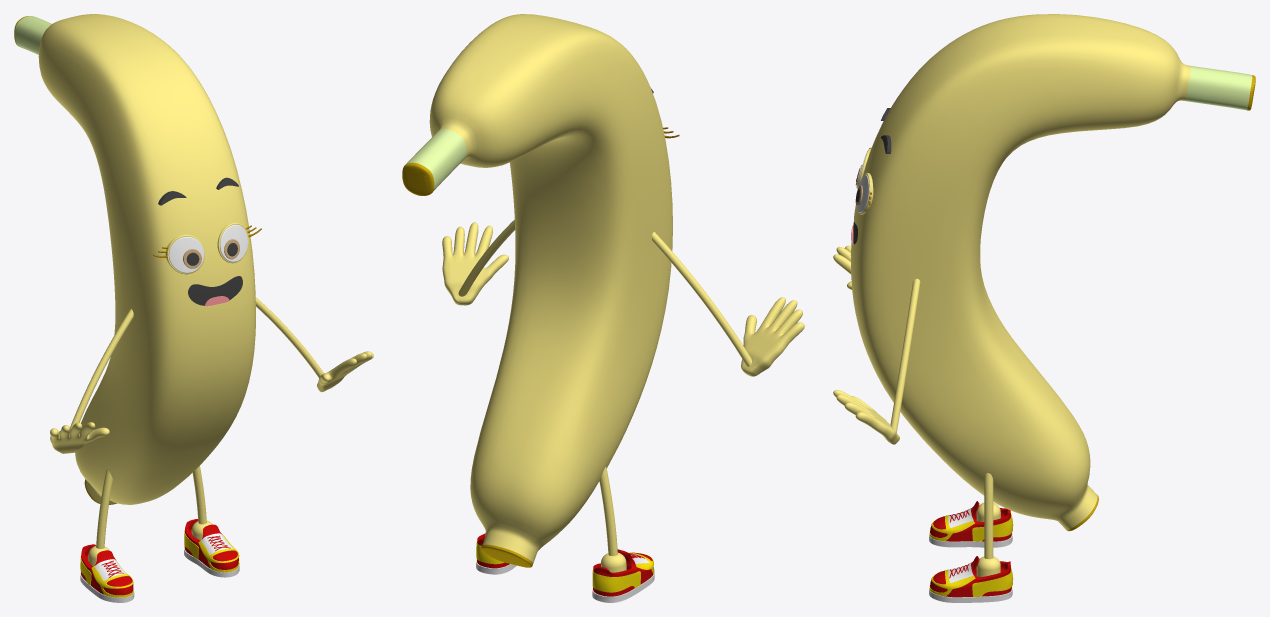
3 renders of one model, left to right at view 1: azimuth 30°, elevation 25°; view 2: azimuth 150°, elevation 25°; view 3: azimuth 270°, elevation 25°, orthographic. The views are drawn at different scales.
Parts seen in each view (by area): view 1: 003_Dole_Banana; view 2: 003_Dole_Banana; view 3: 003_Dole_Banana.
Part boxes in pixels (x1,y1,x2,y2): 003_Dole_Banana: (14,14,373,602); 003_Dole_Banana: (402,14,804,602); 003_Dole_Banana: (833,14,1255,602).
Size of the model in its own units: 0.1304 by 0.1968 by 0.1394.
